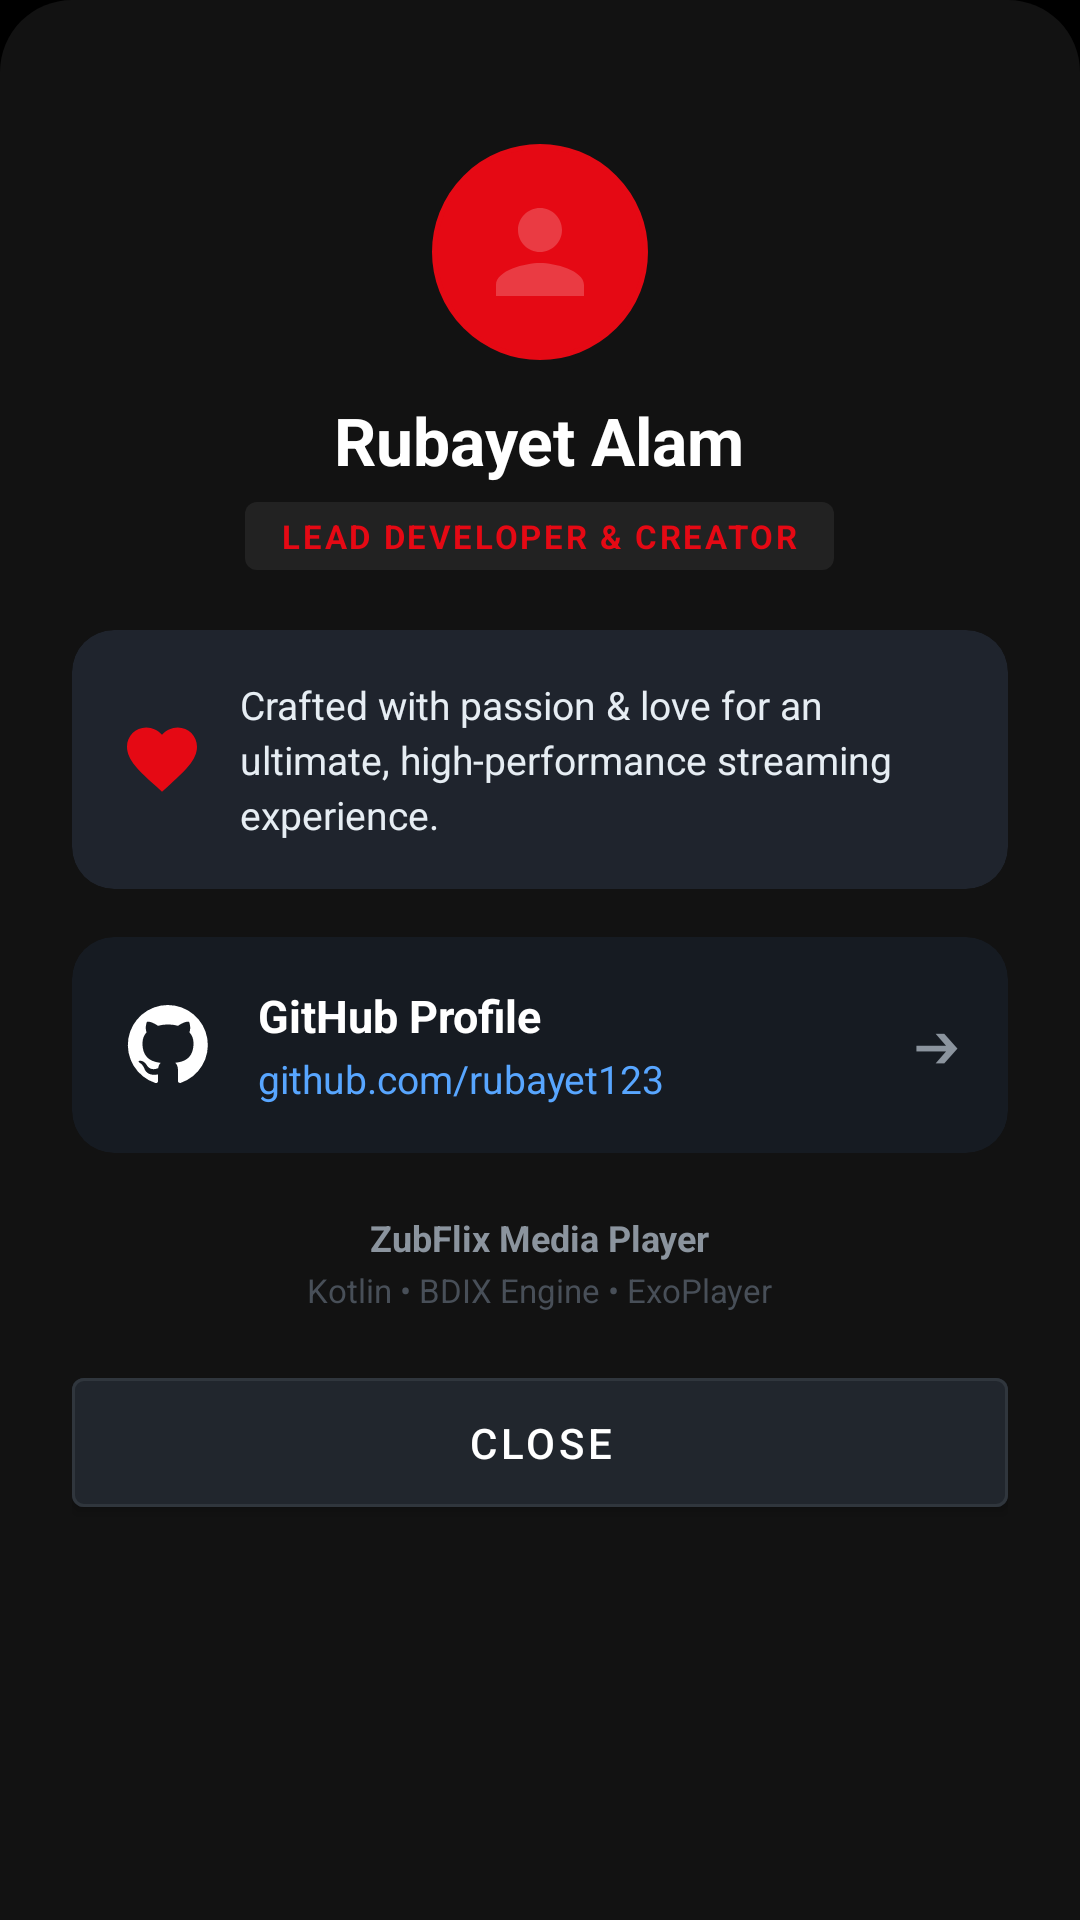

Icons on this 1080w x 1920h Android screen, each with its box as [x1, y1, x2, y2]:
heart: [127, 727, 197, 792]
